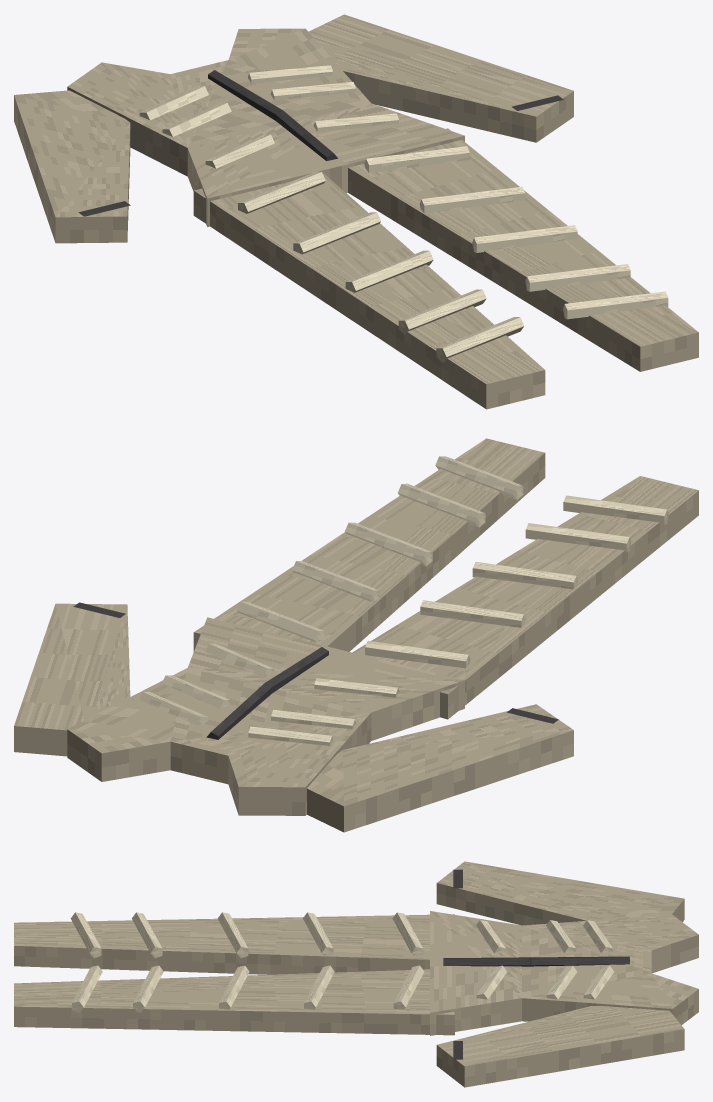
The model's file is mummy_jumpsuit.glb.
The picture shows the model from 3 angles, top to bottom: view 1: azimuth 30°, elevation 25°; view 2: azimuth 150°, elevation 25°; view 3: azimuth 270°, elevation 25°; orthographic projection. The views are drawn at different scales.
Visible parts, largest first — view 1: block_integral trouser leg (×2), block_sleeve (×2), block_suit torso, block_wrapped linen strip 0 (×16), block_sealed front zipper 0, block_sealed front zipper 1; view 2: block_integral trouser leg (×2), block_suit torso, block_sleeve (×2), block_wrapped linen strip 0 (×16), block_sealed front zipper 0, block_sealed front zipper 1; view 3: block_integral trouser leg (×2), block_sleeve (×2), block_suit torso, block_wrapped linen strip 0 (×16), block_sealed front zipper 0, block_sealed front zipper 1.
Boxes of the visible parts, x1=… form: block_integral trouser leg (×2): x1=193, y1=128, x2=698, y2=409; block_sleeve (×2): x1=14, y1=14, x2=573, y2=243; block_suit torso: x1=67, y1=28, x2=464, y2=226; block_wrapped linen strip 0 (×16): x1=139, y1=65, x2=668, y2=362; block_sealed front zipper 0: x1=208, y1=70, x2=282, y2=120; block_sealed front zipper 1: x1=276, y1=110, x2=337, y2=160; block_integral trouser leg (×2): x1=193, y1=438, x2=698, y2=719; block_suit torso: x1=67, y1=617, x2=464, y2=815; block_sleeve (×2): x1=14, y1=603, x2=573, y2=832; block_wrapped linen strip 0 (×16): x1=139, y1=456, x2=668, y2=745; block_sealed front zipper 0: x1=206, y1=683, x2=271, y2=739; block_sealed front zipper 1: x1=265, y1=647, x2=328, y2=693; block_integral trouser leg (×2): x1=14, y1=914, x2=454, y2=1035; block_sleeve (×2): x1=436, y1=861, x2=684, y2=1087; block_suit torso: x1=430, y1=911, x2=698, y2=1035; block_wrapped linen strip 0 (×16): x1=70, y1=912, x2=613, y2=1012; block_sealed front zipper 0: x1=531, y1=956, x2=629, y2=966; block_sealed front zipper 1: x1=443, y1=957, x2=530, y2=966.
Size of the model in its own units: 0.583 by 0.0404 by 0.8229.
Materials: 1 (1 with a texture image).
